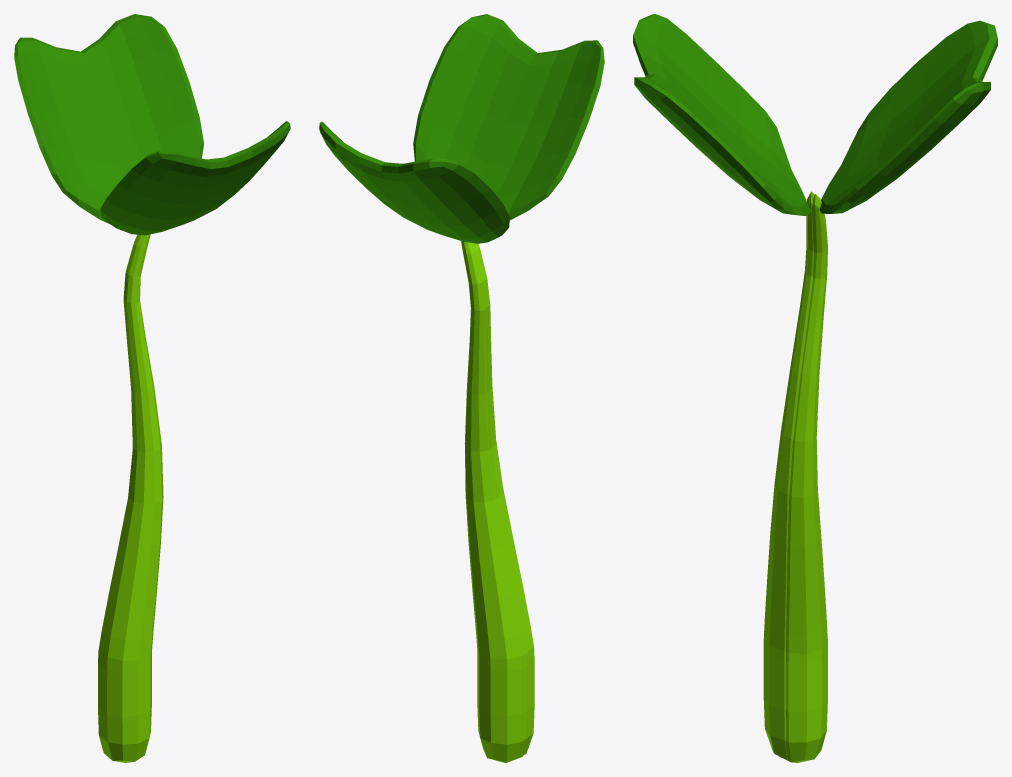
File: Radish Seed germinatingSDM2.fbx
The picture shows the model from 3 angles, left to right: view 1: azimuth 30°, elevation 25°; view 2: azimuth 150°, elevation 25°; view 3: azimuth 270°, elevation 25°; orthographic projection. The views are drawn at different scales.
Parts seen in each view (by area): view 1: Plane.001, Cylinder, Plane; view 2: Plane, Cylinder, Plane.001; view 3: Cylinder, Plane, Plane.001.
Boxes of the visible parts, <box> form: Plane.001: <box>14,14,203,223</box>; Cylinder: <box>98,234,163,762</box>; Plane: <box>100,121,290,235</box>; Plane: <box>413,14,604,220</box>; Cylinder: <box>461,241,534,762</box>; Plane.001: <box>319,121,509,243</box>; Cylinder: <box>763,191,827,762</box>; Plane: <box>633,14,811,215</box>; Plane.001: <box>819,20,997,213</box>.
Bounding box in the file's own units: 518 × 2058 × 929.
